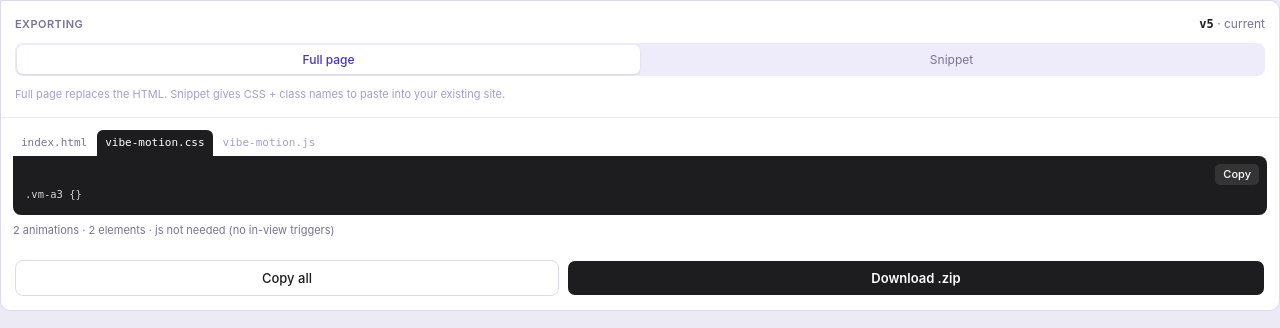
Test: ExportTab › switches to a snippet of the selected element
Expected: the tab "index.html" is shown, x1=13 y1=130 x2=95 y2=156
What coordinates should you click on to do the following:
click the radio button labelled "Snippet"
I would click on:
 (951, 60)
Its box is x1=930 y1=52 x2=973 y2=67.
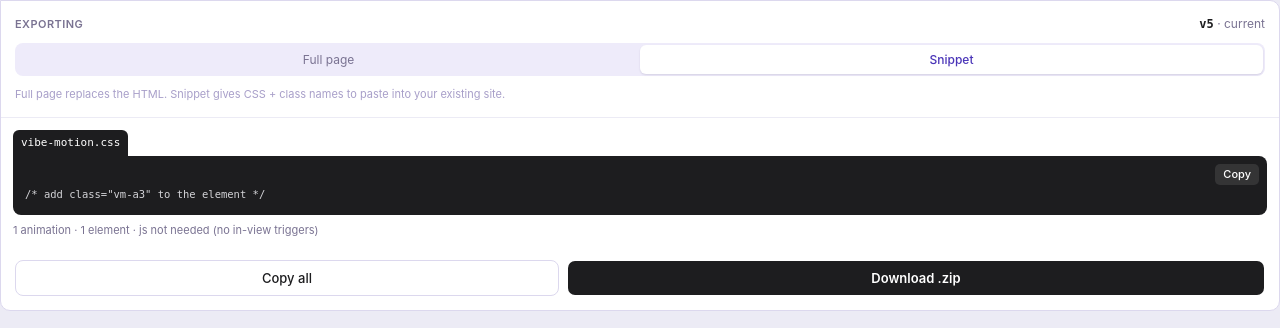
Result: the number of tabs is 1 at x1=13 y1=130 x2=128 y2=156
Result: the text with test id "export-stats" shows "1 animation · 1 element" at x1=13 y1=223 x2=319 y2=237
